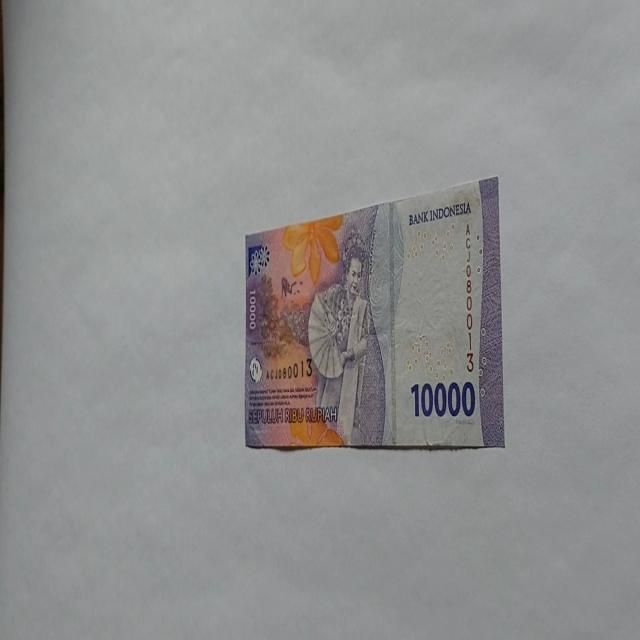sepuluh ribu rupiah: (243, 174, 504, 452)
